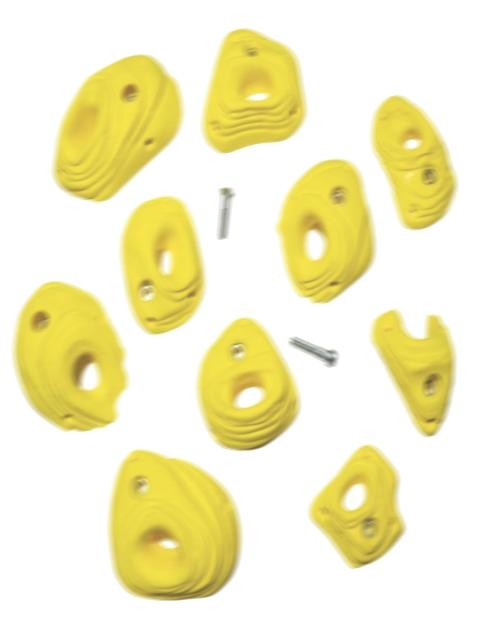pocket: (109, 450, 239, 598), (54, 55, 182, 201), (14, 282, 126, 430), (277, 159, 374, 302), (198, 318, 298, 449), (202, 29, 305, 152), (310, 445, 403, 566), (121, 196, 203, 333), (372, 95, 455, 227), (371, 310, 454, 434)
